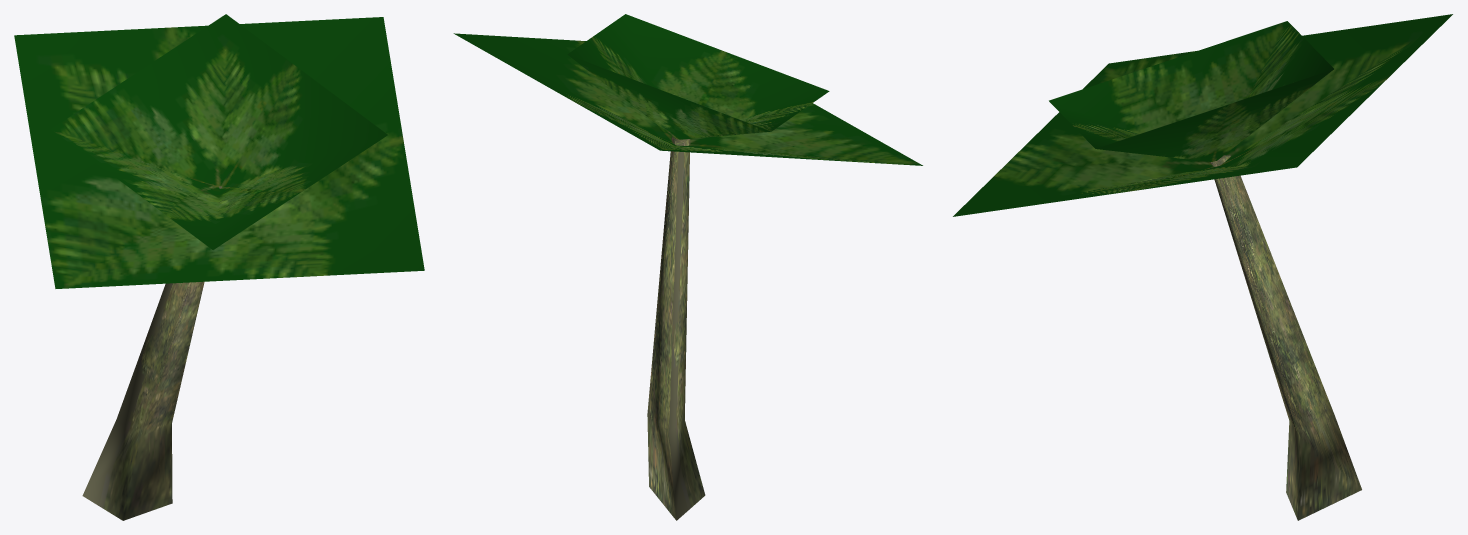
The model's file is fern_ferntree_l2.fbx.
3 renders of one model, left to right at view 1: azimuth 30°, elevation 25°; view 2: azimuth 150°, elevation 25°; view 3: azimuth 270°, elevation 25°, orthographic. The views are drawn at different scales.
Visible parts, largest first — view 1: mesh_node; view 2: mesh_node; view 3: mesh_node.
Part boxes in pixels (x1=…): mesh_node: x1=14, y1=14, x2=424, y2=520; mesh_node: x1=453, y1=14, x2=922, y2=520; mesh_node: x1=953, y1=14, x2=1452, y2=520.
Size of the model in its own units: 2.58 by 2.72 by 2.52.
Materials: 2 (2 with a texture image).
